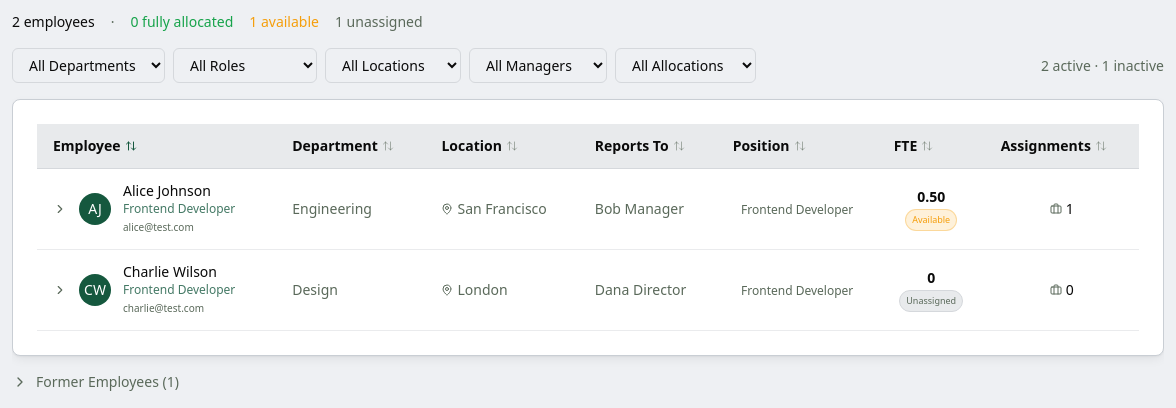
EmployeeList › filters by role
The width and height of the screenshot is (1176, 408).
Select "MANAGER" in the 2nd dropdown showing "All Roles": (245, 66) [173,48,317,83]
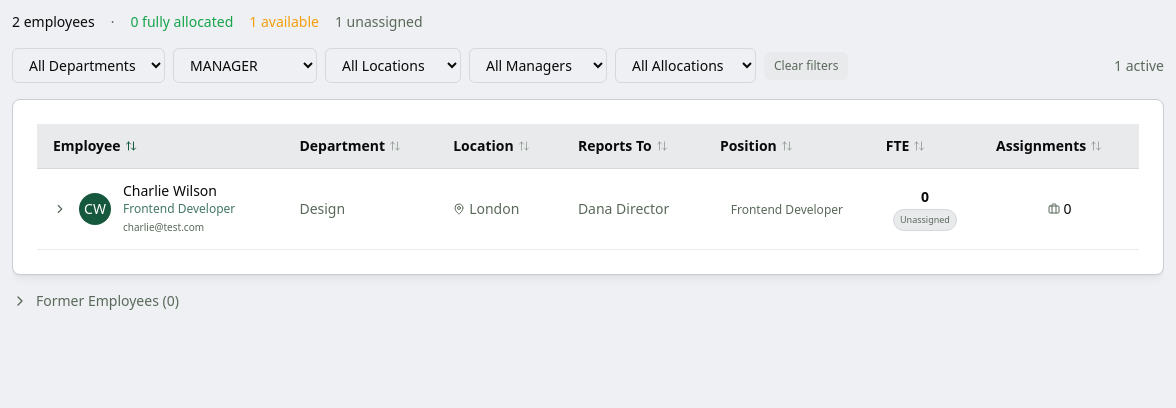
expect the link "Charlie Wilson" is shown: met, box [123,181,217,200]
expect the link "Alice Johnson" is gone: met
